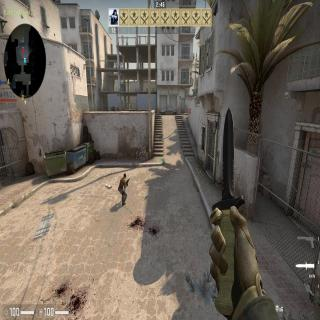T-Body: (118, 172, 131, 206)
T-Head: (123, 172, 128, 180)
